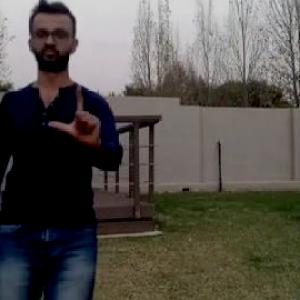land_hand: (50, 83, 113, 158)
